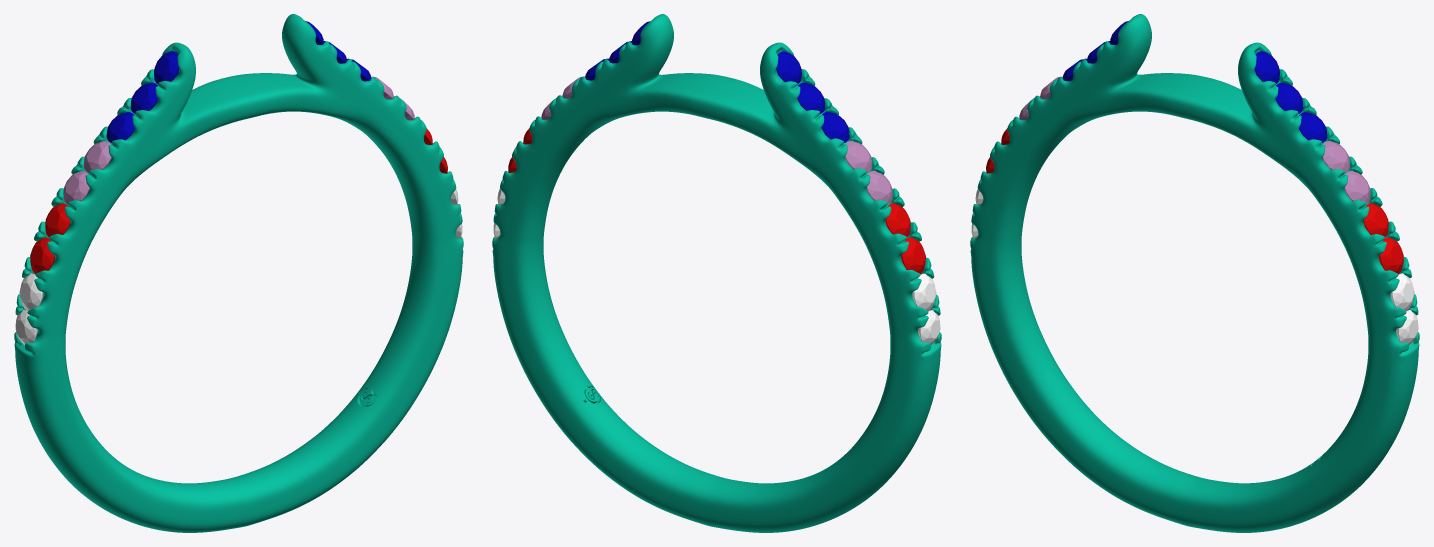
File: 3D Websitetest.vjson.glb
The picture shows the model from 3 angles, left to right: view 1: azimuth 30°, elevation 25°; view 2: azimuth 150°, elevation 25°; view 3: azimuth 330°, elevation 25°; orthographic projection.
Parts seen in each view (by area): view 1: Shank_13dm, Diamond_Round_3, Diamond_Round_8, Diamond_Round, Diamond_Round_2, Diamond_Round_7, Diamond_Round_6, Diamond_Round_9, Diamond_Round_4; view 2: Shank_13dm, Diamond_Round, Diamond_Round_3, Diamond_Round_7, Diamond_Round_2, Diamond_Round_4, Diamond_Round_9, Diamond_Round_6, Diamond_Round_8; view 3: Shank_13dm, Diamond_Round_15, Diamond_Round_11, Diamond_Round_1, Diamond_Round_12, Diamond_Round_13, Diamond_Round_14, Diamond_Round_10, Diamond_Round_16.
Part boxes in pixels (x1=…): Shank_13dm: x1=14, y1=14, x2=463, y2=532; Diamond_Round_3: x1=30, y1=237, x2=54, y2=274; Diamond_Round_8: x1=106, y1=112, x2=134, y2=142; Diamond_Round: x1=154, y1=51, x2=179, y2=83; Diamond_Round_2: x1=63, y1=171, x2=89, y2=204; Diamond_Round_7: x1=84, y1=141, x2=111, y2=172; Diamond_Round_6: x1=45, y1=203, x2=70, y2=236; Diamond_Round_9: x1=130, y1=82, x2=158, y2=113; Diamond_Round_4: x1=19, y1=273, x2=43, y2=311; Shank_13dm: x1=492, y1=14, x2=941, y2=532; Diamond_Round: x1=776, y1=51, x2=801, y2=84; Diamond_Round_3: x1=901, y1=237, x2=925, y2=273; Diamond_Round_7: x1=845, y1=140, x2=872, y2=172; Diamond_Round_2: x1=866, y1=170, x2=892, y2=204; Diamond_Round_4: x1=912, y1=273, x2=936, y2=311; Diamond_Round_9: x1=797, y1=82, x2=825, y2=113; Diamond_Round_6: x1=885, y1=203, x2=910, y2=236; Diamond_Round_8: x1=821, y1=111, x2=849, y2=142; Shank_13dm: x1=970, y1=14, x2=1419, y2=532; Diamond_Round_15: x1=1379, y1=237, x2=1403, y2=274; Diamond_Round_11: x1=1299, y1=112, x2=1327, y2=142; Diamond_Round_1: x1=1254, y1=51, x2=1279, y2=83; Diamond_Round_12: x1=1322, y1=141, x2=1349, y2=172; Diamond_Round_13: x1=1344, y1=171, x2=1370, y2=203; Diamond_Round_14: x1=1363, y1=203, x2=1388, y2=237; Diamond_Round_10: x1=1275, y1=82, x2=1303, y2=113; Diamond_Round_16: x1=1390, y1=273, x2=1414, y2=311.
Size of the model in its own units: 21.7 by 23.33 by 2.68.
